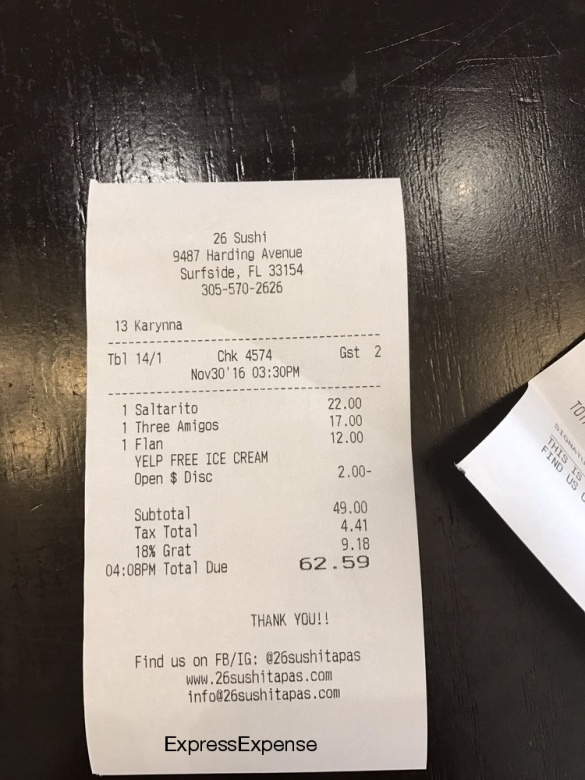Additional details: (123, 607, 388, 712)
Purchase summary: (89, 311, 398, 579)
Receipt: (79, 177, 429, 732)
Shop details: (156, 228, 315, 304)
